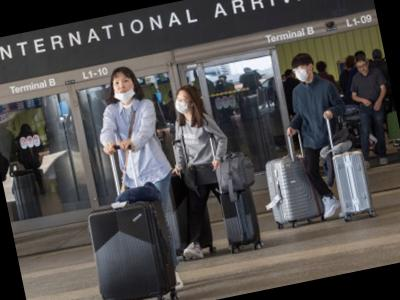mask_weared_incorrect: (110, 74, 136, 107)
with_mask: (173, 92, 194, 119), (292, 63, 312, 85)
without_mask: (356, 60, 369, 75)
